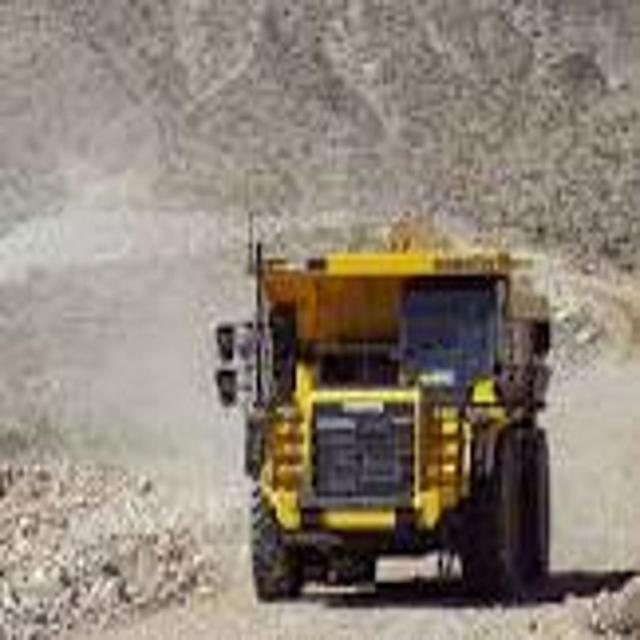dump_truck: (212, 208, 564, 606)
